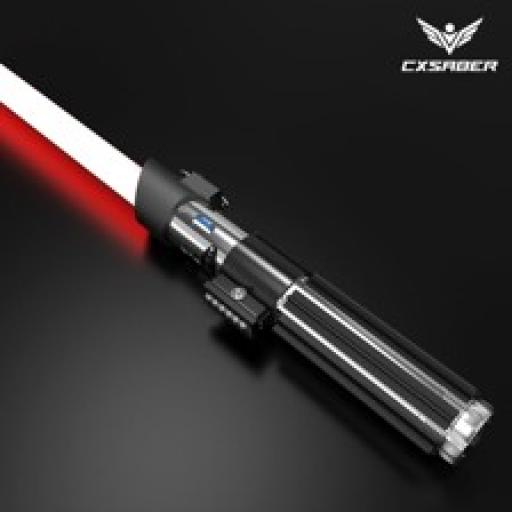sith saber: (1, 57, 512, 468)
